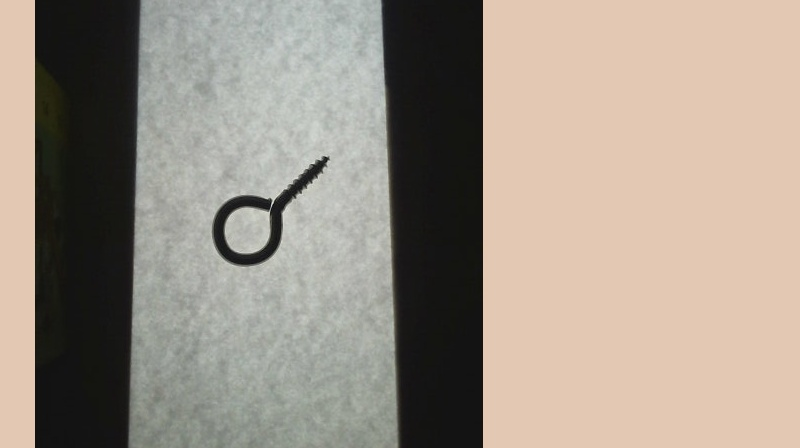O001: (208, 155, 330, 274)
